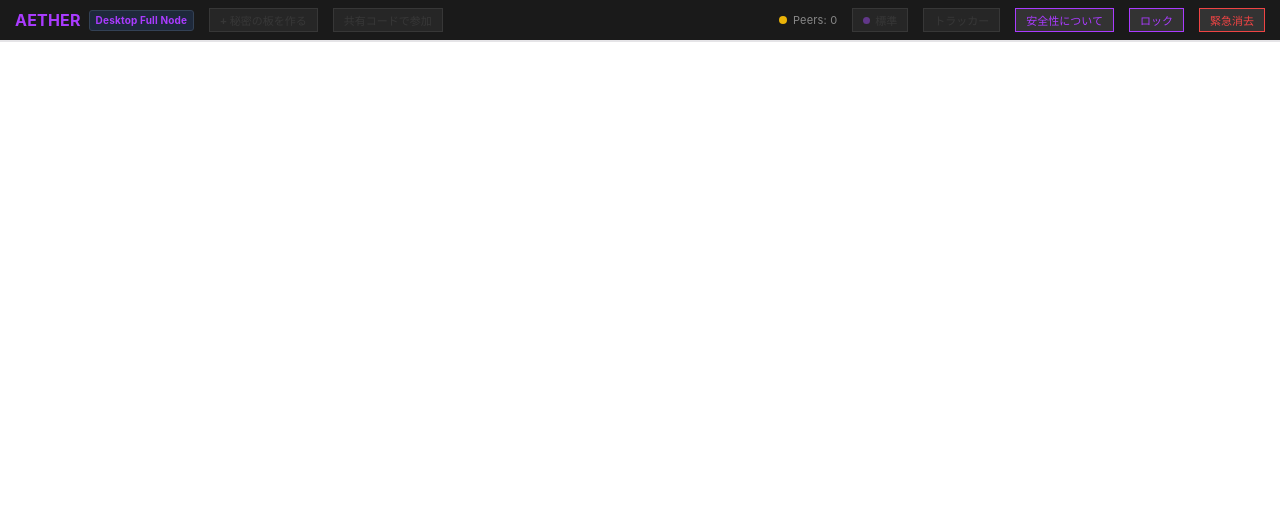
Test: Desktop UI Rendering & Workflows (AETHER Specification) › AppHeader Component › 「安全性について」で守れないことを明示する
Click the button "安全性について". click: x=1065, y=20
box: top-left (1015, 8), bottom-right (1114, 32)
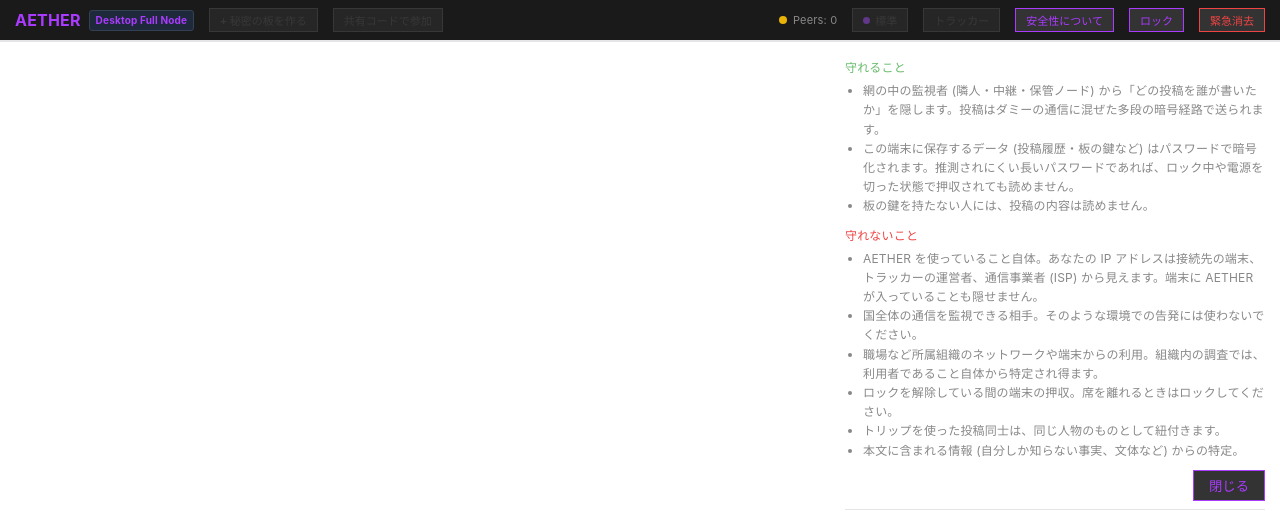
Expected: the text "守れないこと" is shown, top-left (845, 228), bottom-right (918, 242)
Expected: the list item "国全体の通信を監視できる相手。そのような環境での告発には使わないでください。" is shown, top-left (863, 306), bottom-right (1265, 345)
Expected: the list item "IP アドレスは接続先の端末、トラッカーの運営者、通信事業者" is shown, top-left (863, 251), bottom-right (1261, 304)
